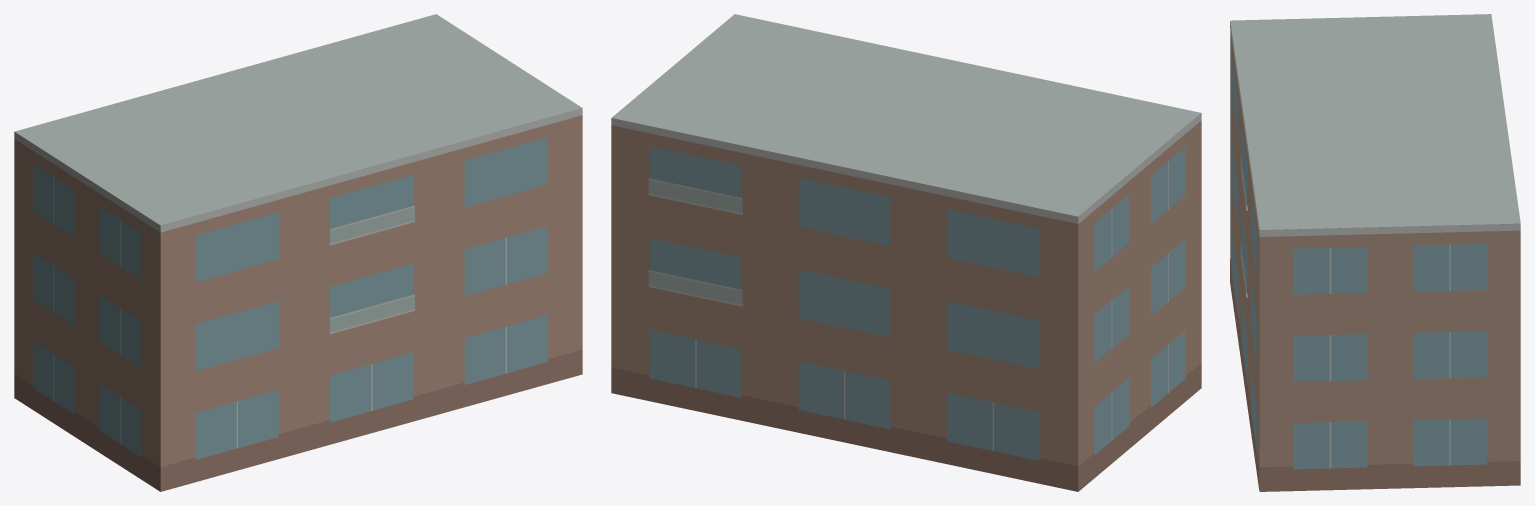
File: survey-upis-32698011.glb
3 views of the same model, side by side, from view 1: azimuth 30°, elevation 25°; view 2: azimuth 150°, elevation 25°; view 3: azimuth 270°, elevation 25° (orthographic). The views are drawn at different scales.
Visible parts, largest first — view 1: survey-upis-32698011.tmp; view 2: survey-upis-32698011.tmp; view 3: survey-upis-32698011.tmp.
Boxes of the visible parts, bbox=[...] form: survey-upis-32698011.tmp: bbox=[14, 14, 582, 491]; survey-upis-32698011.tmp: bbox=[611, 14, 1201, 491]; survey-upis-32698011.tmp: bbox=[1230, 14, 1520, 491].
Bounding box in the file's own units: 16.21 × 9.15 × 9.22.
